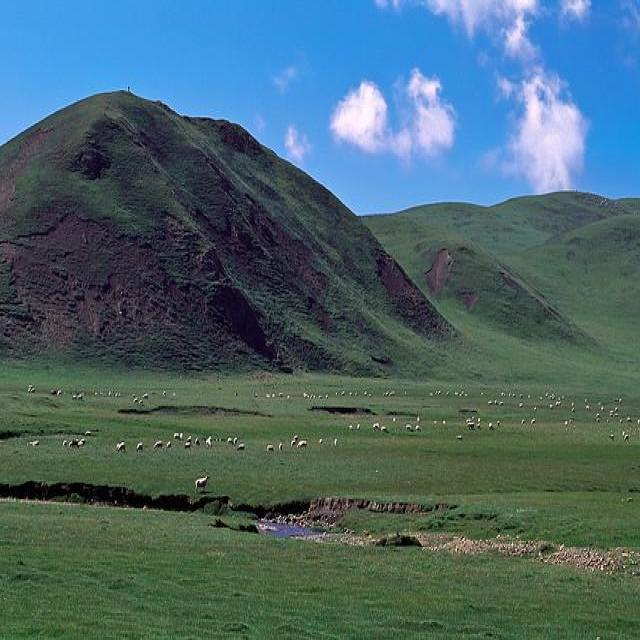Sheep: (25, 376, 632, 462)
